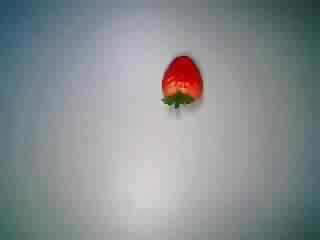strawberry: (147, 50, 213, 116)
